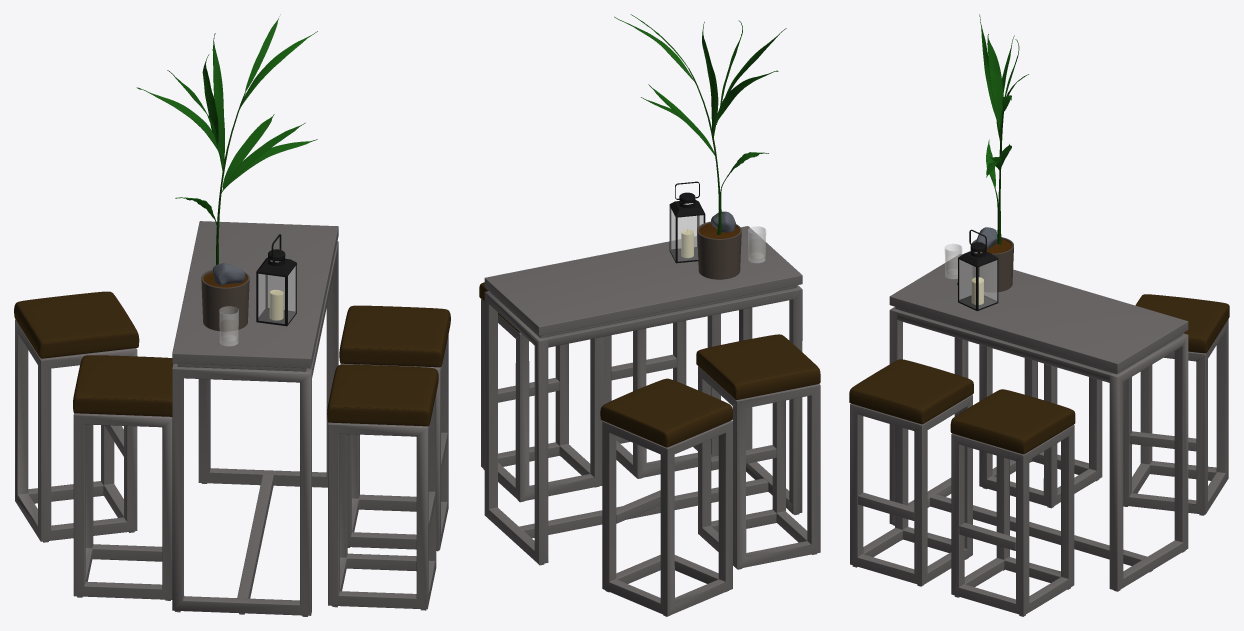
Rendered from bar_table.glb.
The picture shows the model from 3 angles, left to right: view 1: azimuth 30°, elevation 25°; view 2: azimuth 150°, elevation 25°; view 3: azimuth 270°, elevation 25°; orthographic projection. The views are drawn at different scales.
Parts seen in each view (by area): view 1: obj_004, Box50228, Object26082_PVC Black Matte_0, Box50230, Box50232, Box50229, Box50231, AM160_027_05, AM160_027_02, AM160_027_07, AM160_027_06, AM160_027_11; view 2: Box50228, Object26082_PVC Black Matte_0, Box50230, obj_004, Box50229, Box50231, Box50232, AM160_027_05, AM160_027_02, AM160_027_07, AM160_027_06, AM160_027_11; view 3: Object26082_PVC Black Matte_0, Box50228, obj_004, Box50231, Box50232, Box50230, Box50229, AM160_027_05, AM160_027_07, AM160_027_02, AM160_027_06.
Part boxes in pixels (left/top/right/bottom): obj_004: left=14, top=291, right=450, bottom=426; Box50228: left=172, top=241, right=338, bottom=615; Object26082_PVC Black Matte_0: left=172, top=221, right=338, bottom=368; Box50230: left=15, top=319, right=137, bottom=541; Box50232: left=328, top=394, right=436, bottom=609; Box50229: left=73, top=413, right=172, bottom=599; Box50231: left=340, top=335, right=448, bottom=550; AM160_027_05: left=136, top=14, right=317, bottom=264; AM160_027_02: left=201, top=269, right=249, bottom=331; AM160_027_07: left=258, top=260, right=295, bottom=323; AM160_027_06: left=256, top=257, right=296, bottom=326; AM160_027_11: left=219, top=306, right=238, bottom=346; Box50228: left=484, top=285, right=802, bottom=564; Object26082_PVC Black Matte_0: left=484, top=226, right=802, bottom=335; Box50230: left=602, top=420, right=732, bottom=616; obj_004: left=479, top=282, right=820, bottom=447; Box50229: left=698, top=366, right=820, bottom=568; Box50231: left=481, top=299, right=603, bottom=501; Box50232: left=603, top=313, right=720, bottom=478; AM160_027_05: left=614, top=14, right=786, bottom=234; AM160_027_02: left=697, top=221, right=741, bottom=279; AM160_027_07: left=670, top=203, right=703, bottom=261; AM160_027_06: left=669, top=199, right=705, bottom=263; AM160_027_11: left=748, top=226, right=765, bottom=262; Object26082_PVC Black Matte_0: left=889, top=254, right=1188, bottom=372; Box50228: left=889, top=307, right=1188, bottom=591; obj_004: left=849, top=294, right=1229, bottom=454; Box50231: left=951, top=424, right=1074, bottom=615; Box50232: left=850, top=394, right=972, bottom=585; Box50230: left=1123, top=319, right=1228, bottom=514; Box50229: left=979, top=344, right=1102, bottom=507; AM160_027_05: left=979, top=14, right=1028, bottom=244; AM160_027_07: left=959, top=252, right=997, bottom=308; AM160_027_02: left=972, top=237, right=1013, bottom=292; AM160_027_06: left=957, top=251, right=998, bottom=311.
Bounding box in the file's own units: 1.66 × 2.29 × 1.66.
